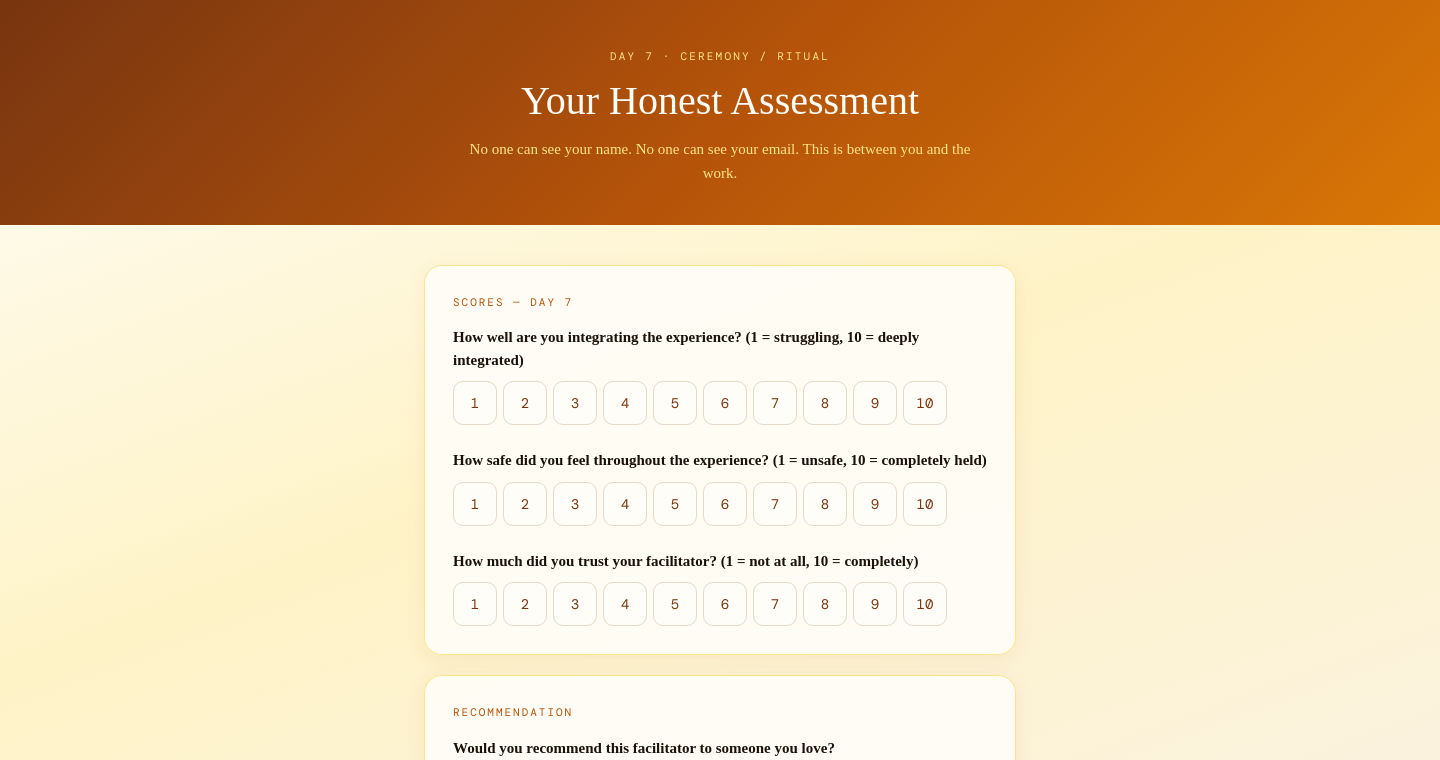
StepSurvey › marks the chosen score and shows its label
The image size is (1440, 760).
What coordinates should you click on to do the following:
click the button named "3, Below average"
I would click on:
 (575, 403)
Its box is [553, 381, 597, 425].
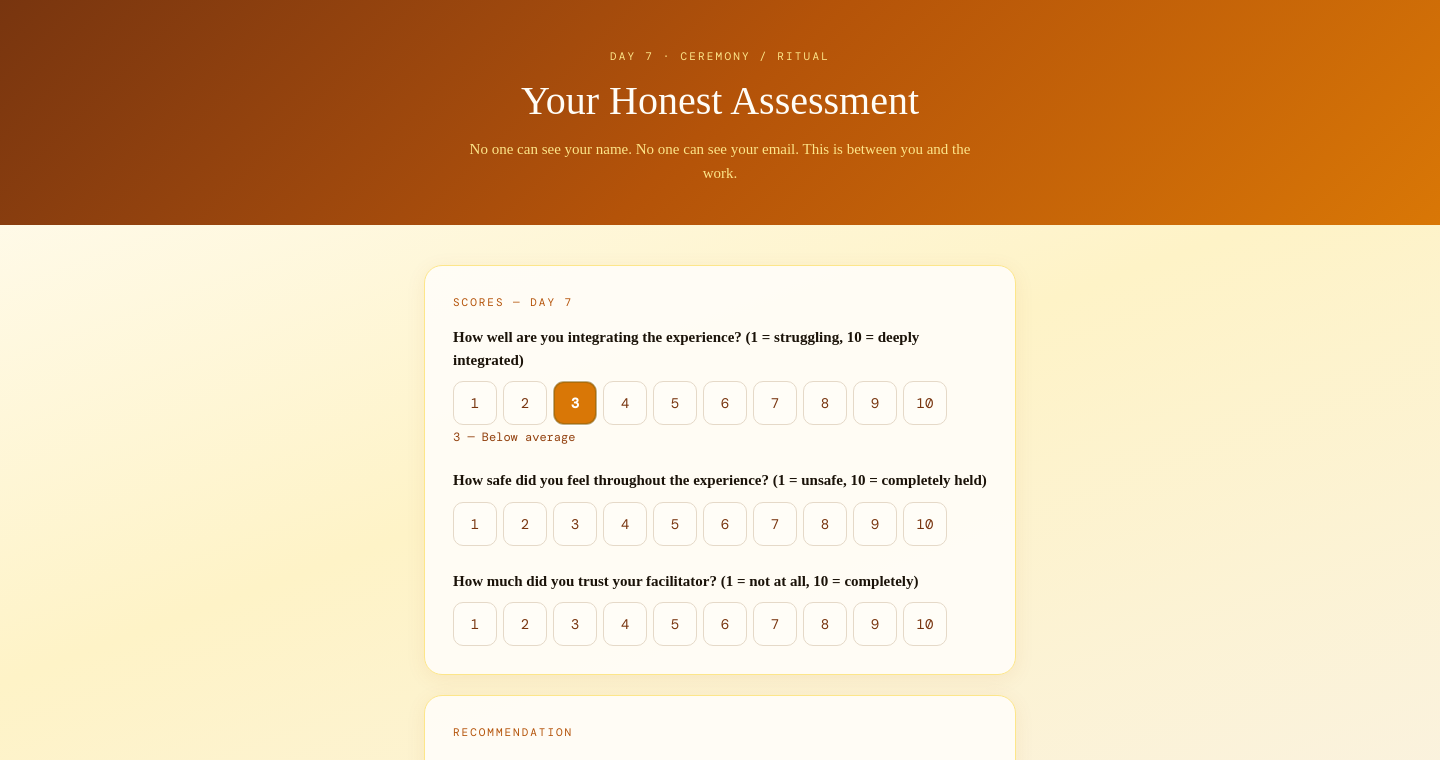
Now the text "3 — Below average" is shown, box [453, 429, 575, 445]
